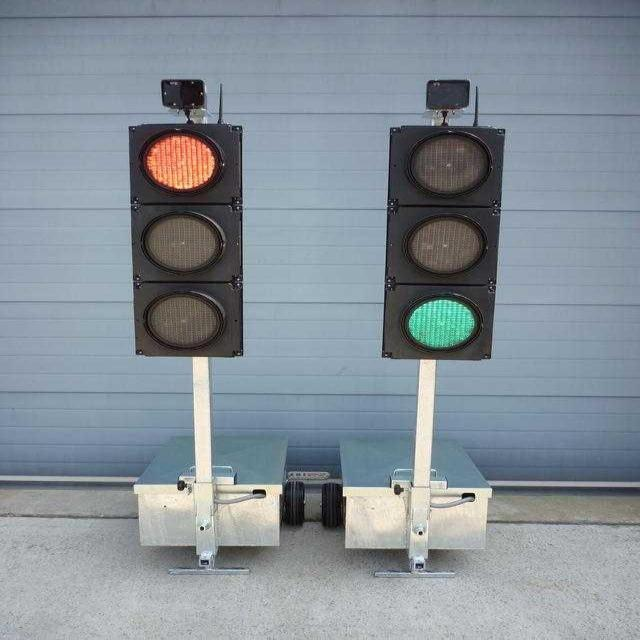Traffic Light -Green-: (386, 121, 501, 359)
Traffic Light -Red-: (128, 118, 241, 355)
